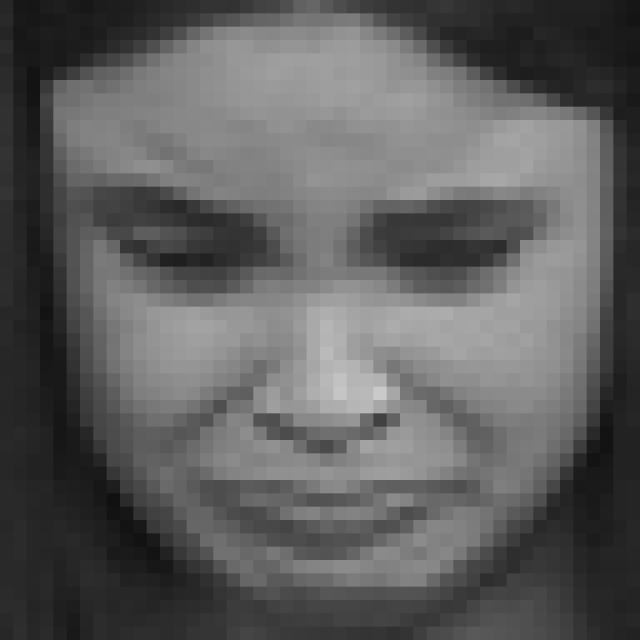sad: (84, 131, 556, 585)
